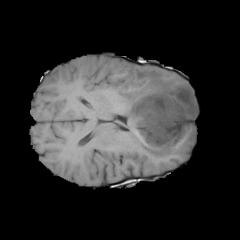glioma: (115, 66, 197, 158)
